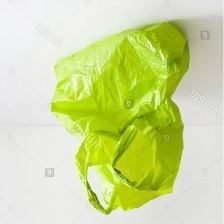plastic_bag: (48, 20, 193, 217)
